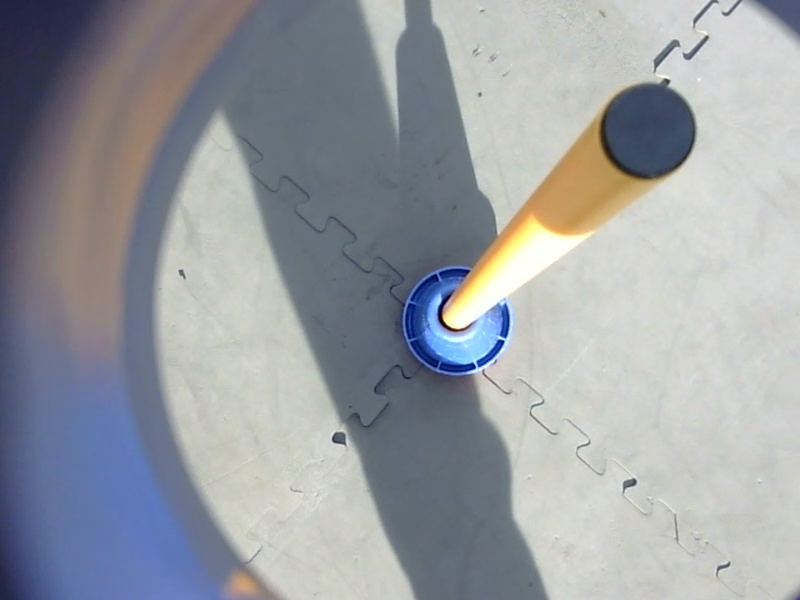tip: (591, 75, 706, 187)
